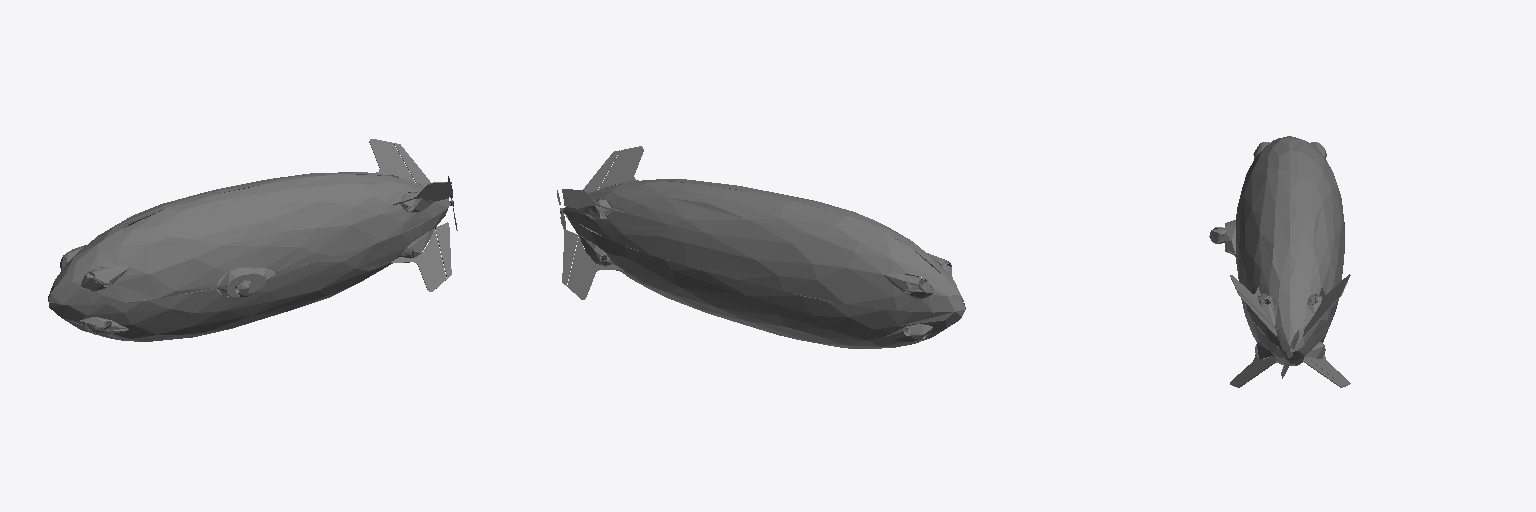
The model's file is airship.obj.
The picture shows the model from 3 angles: view 1: azimuth 30°, elevation 25°; view 2: azimuth 150°, elevation 25°; view 3: azimuth 270°, elevation 25°; orthographic projection.
Visible parts, largest first — view 1: airship:Mesh114; view 2: airship:Mesh114; view 3: airship:Mesh114.
Part boxes in pixels (left/top/right/bottom): airship:Mesh114: left=48, top=139, right=457, bottom=341; airship:Mesh114: left=557, top=146, right=965, bottom=348; airship:Mesh114: left=1209, top=136, right=1350, bottom=387.
Size of the model in its own units: 330 by 103 by 99.46.